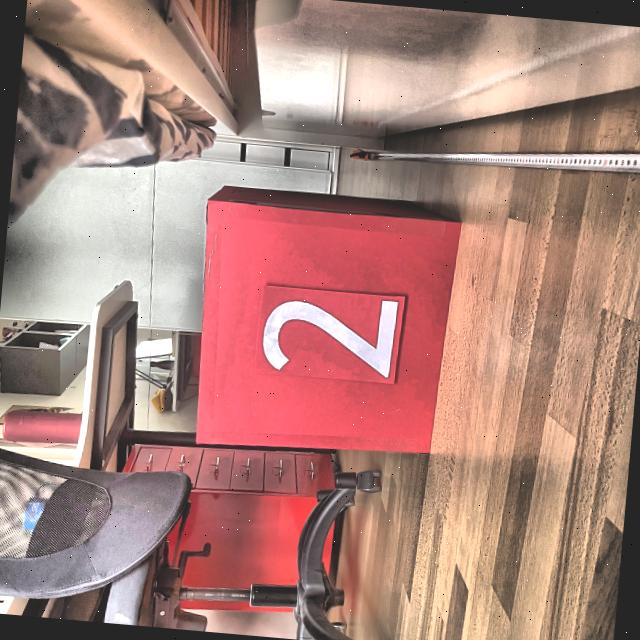red box: (192, 186, 450, 464)
two: (258, 287, 405, 383)
